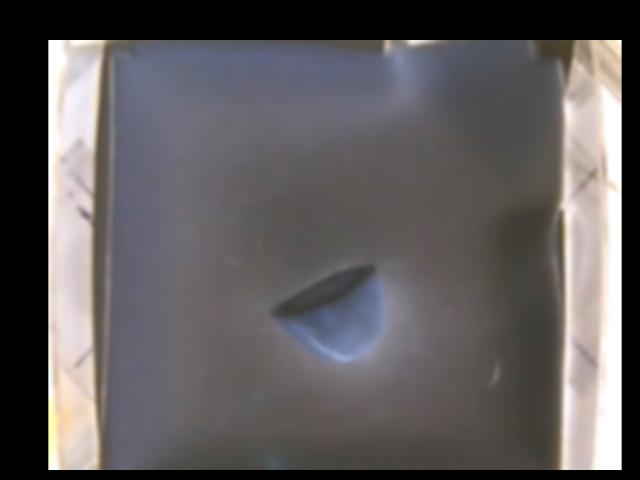Mooli: (268, 263, 384, 360)
